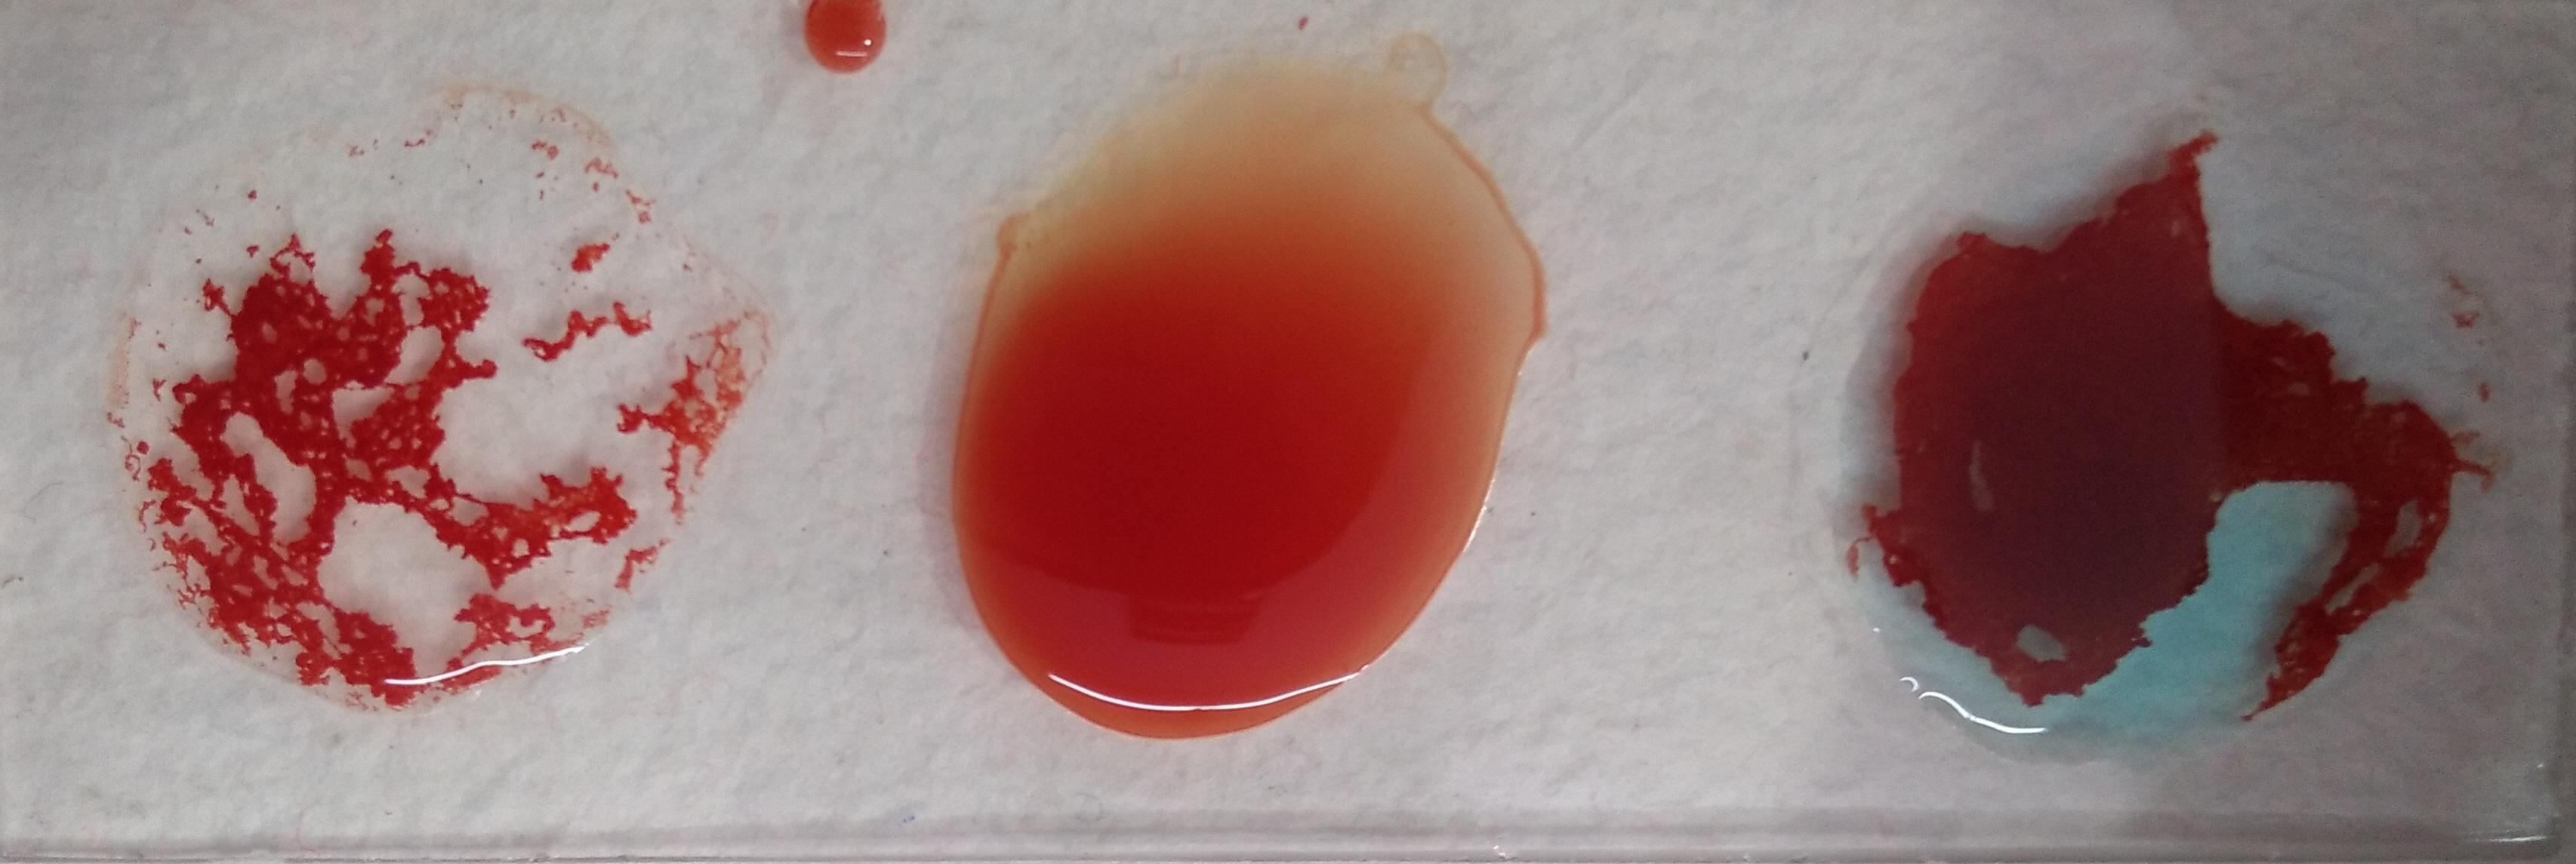A: (1802, 94, 2463, 759)
D: (107, 113, 744, 715)
